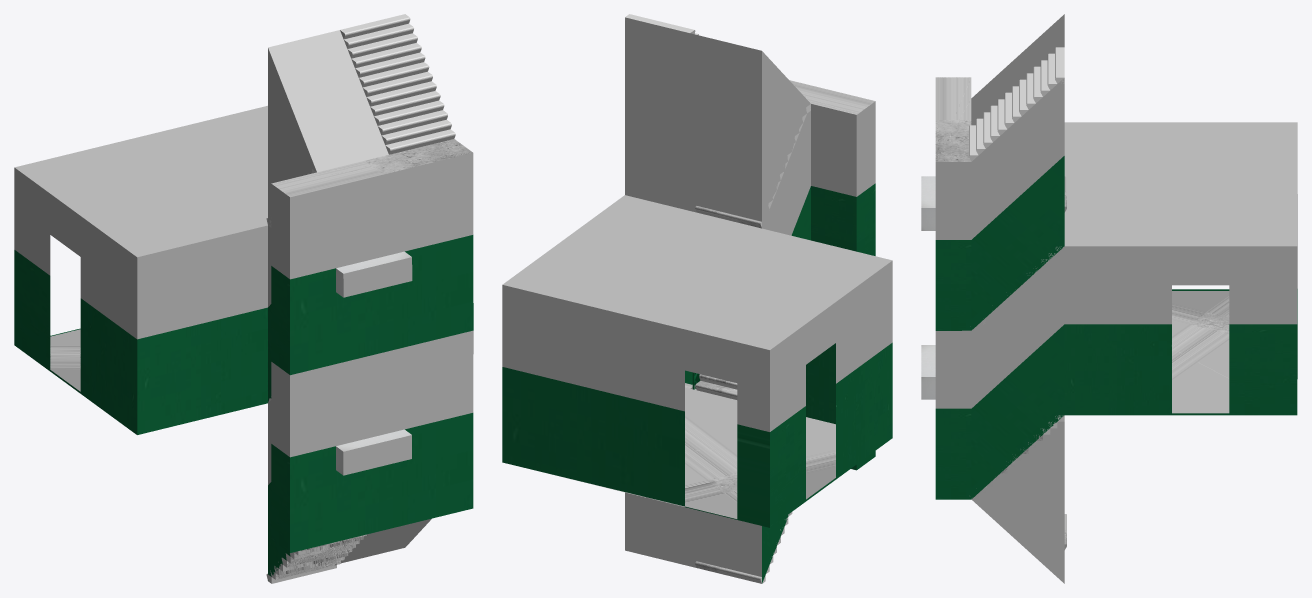
The model's file is площадка.fbx.
3 renders of one model, left to right at view 1: azimuth 30°, elevation 25°; view 2: azimuth 150°, elevation 25°; view 3: azimuth 270°, elevation 25°, orthographic. The views are drawn at different scales.
Parts seen in each view (by area): view 1: Куб.002; view 2: Куб.002; view 3: Куб.002.
Part boxes in pixels (x1,y1,x2,y2): Куб.002: (14,14,473,583); Куб.002: (502,14,892,583); Куб.002: (921,14,1297,583).
Bounding box in the file's own units: 4.11 × 7.8 × 5.25.
